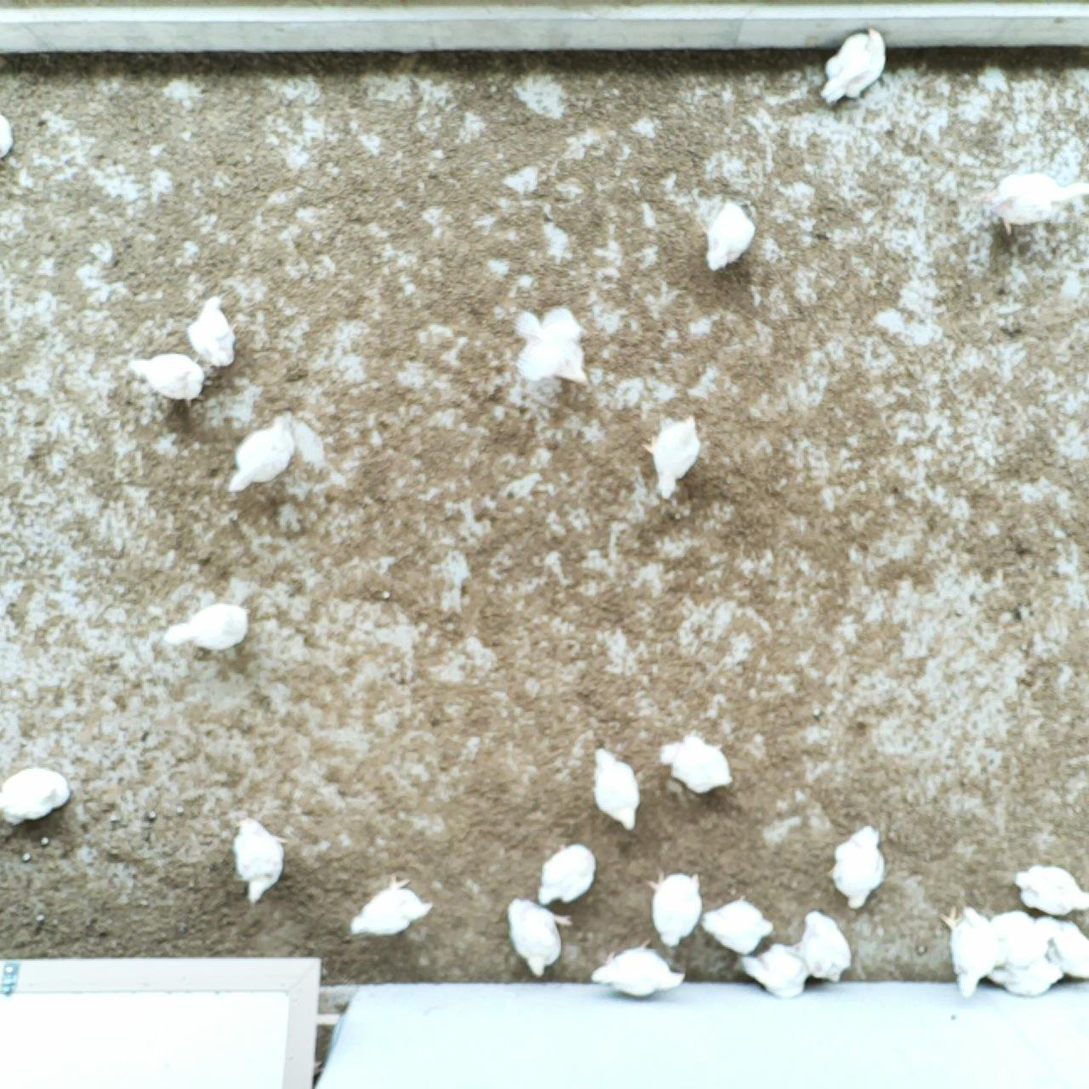chicken: (508, 300, 590, 389), (939, 900, 1011, 1000), (982, 170, 1089, 233), (504, 890, 573, 984), (588, 938, 686, 1003), (221, 414, 296, 497), (640, 858, 705, 951), (815, 24, 885, 109), (346, 872, 431, 941), (230, 813, 292, 904), (974, 904, 1059, 970), (162, 595, 251, 657), (824, 822, 885, 911), (653, 730, 736, 793), (790, 904, 855, 984), (644, 410, 702, 499), (1008, 860, 1089, 922), (697, 191, 757, 273), (699, 894, 774, 957), (0, 760, 70, 827), (589, 745, 643, 831), (183, 290, 240, 371), (1028, 909, 1089, 984), (732, 944, 809, 1002), (984, 949, 1065, 1004), (535, 838, 599, 906), (125, 351, 205, 405), (0, 103, 19, 166)
